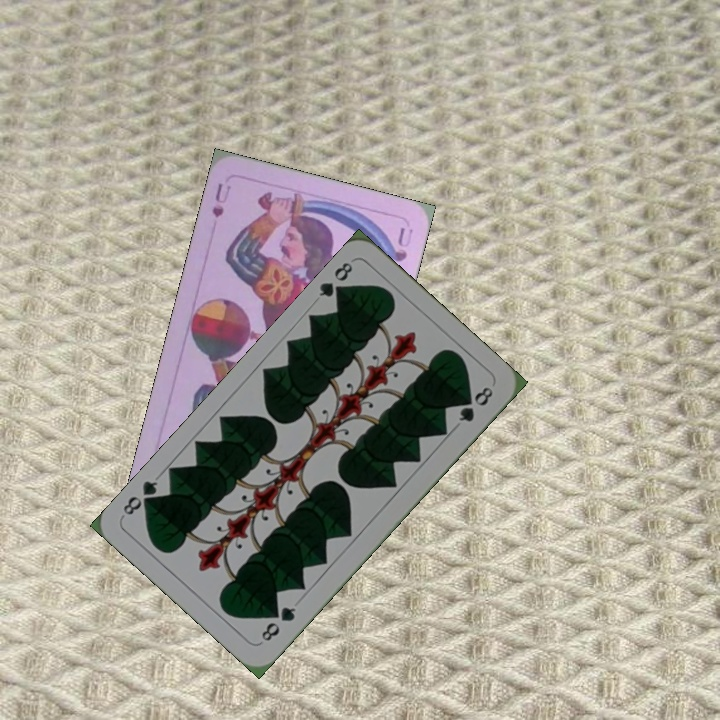G8: (314, 258, 356, 303), (257, 602, 299, 644)
SU: (207, 179, 234, 220)
